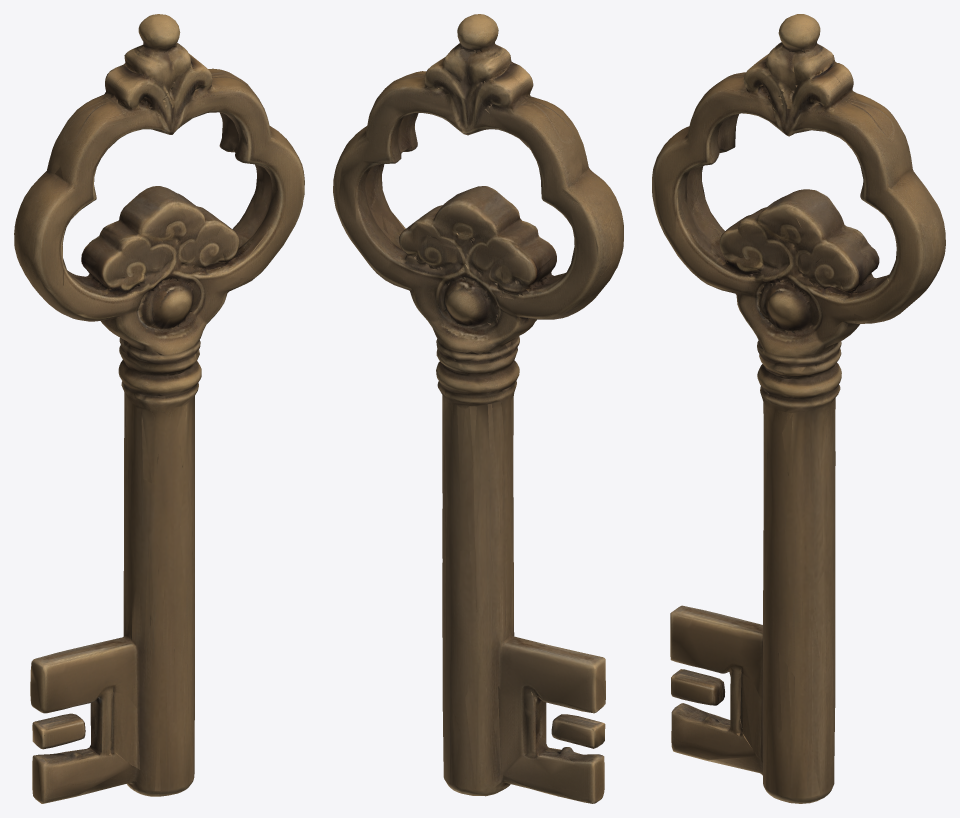
Rendered from Meshy_AI_Ornate_Antique_Key_0824040338_texture.fbx.
The picture shows the model from 3 angles, left to right: view 1: azimuth 30°, elevation 25°; view 2: azimuth 150°, elevation 25°; view 3: azimuth 330°, elevation 25°; orthographic projection.
Visible parts, largest first — view 1: output_unwrapped; view 2: output_unwrapped; view 3: output_unwrapped.
Part boxes in pixels (x1=…): output_unwrapped: x1=14, y1=14, x2=304, y2=803; output_unwrapped: x1=333, y1=14, x2=623, y2=803; output_unwrapped: x1=652, y1=14, x2=945, y2=803.
Bounding box in the file's own units: 76.26 × 200 × 20.3.
Materials: 1 (1 with a texture image).
